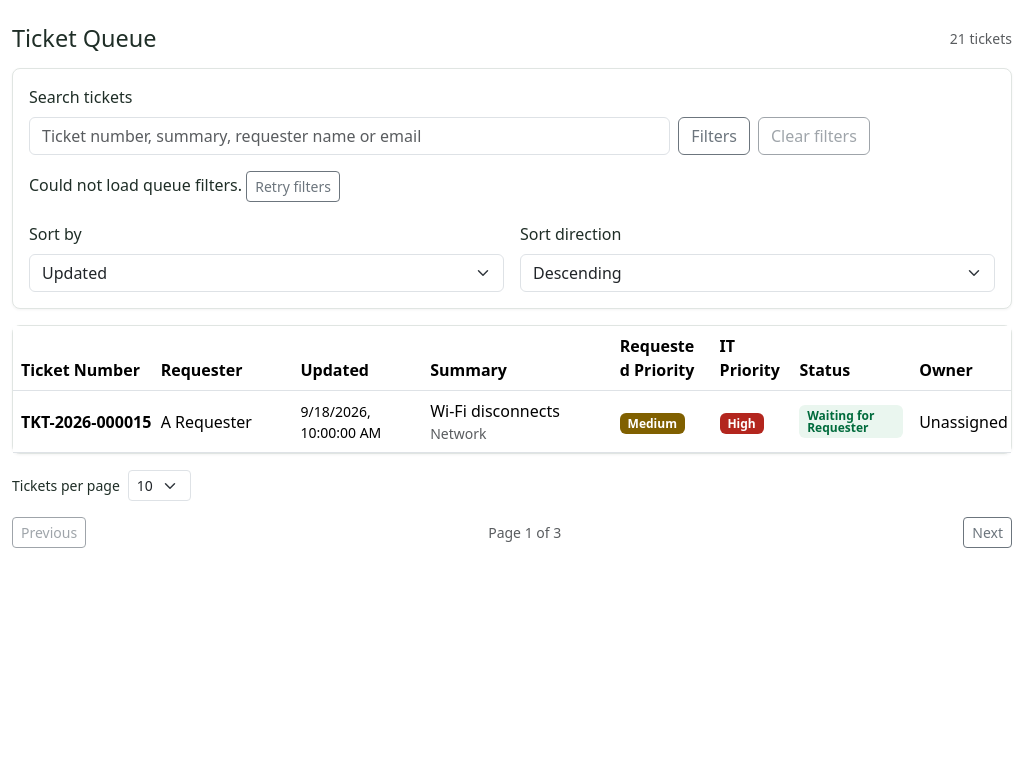
it: Staff Ticket Queue (UI-06) › shows Owner filter loading failure and retries reference data
This screenshot has width=1024, height=768.
Check: the text "Could not load queue filters." is shown, box top-left (29, 174), bottom-right (242, 196)
Click the button "Retry filters".
click(293, 187)  # box top-left (246, 171), bottom-right (340, 202)
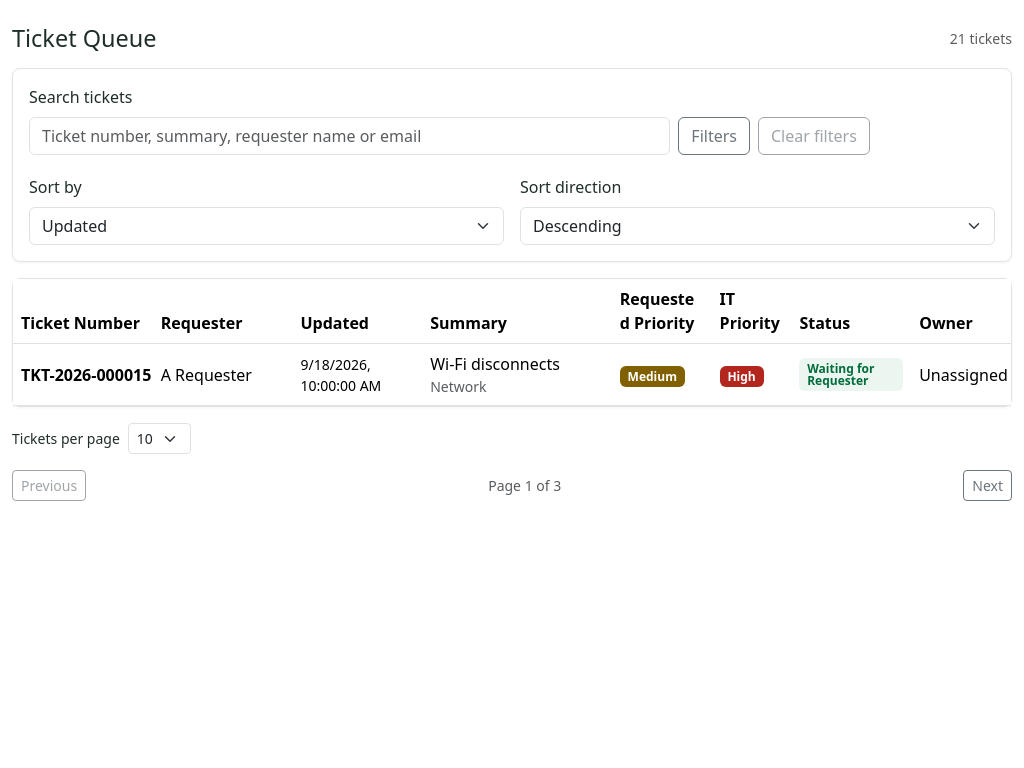
Check: the text "Could not load queue filters." is gone
